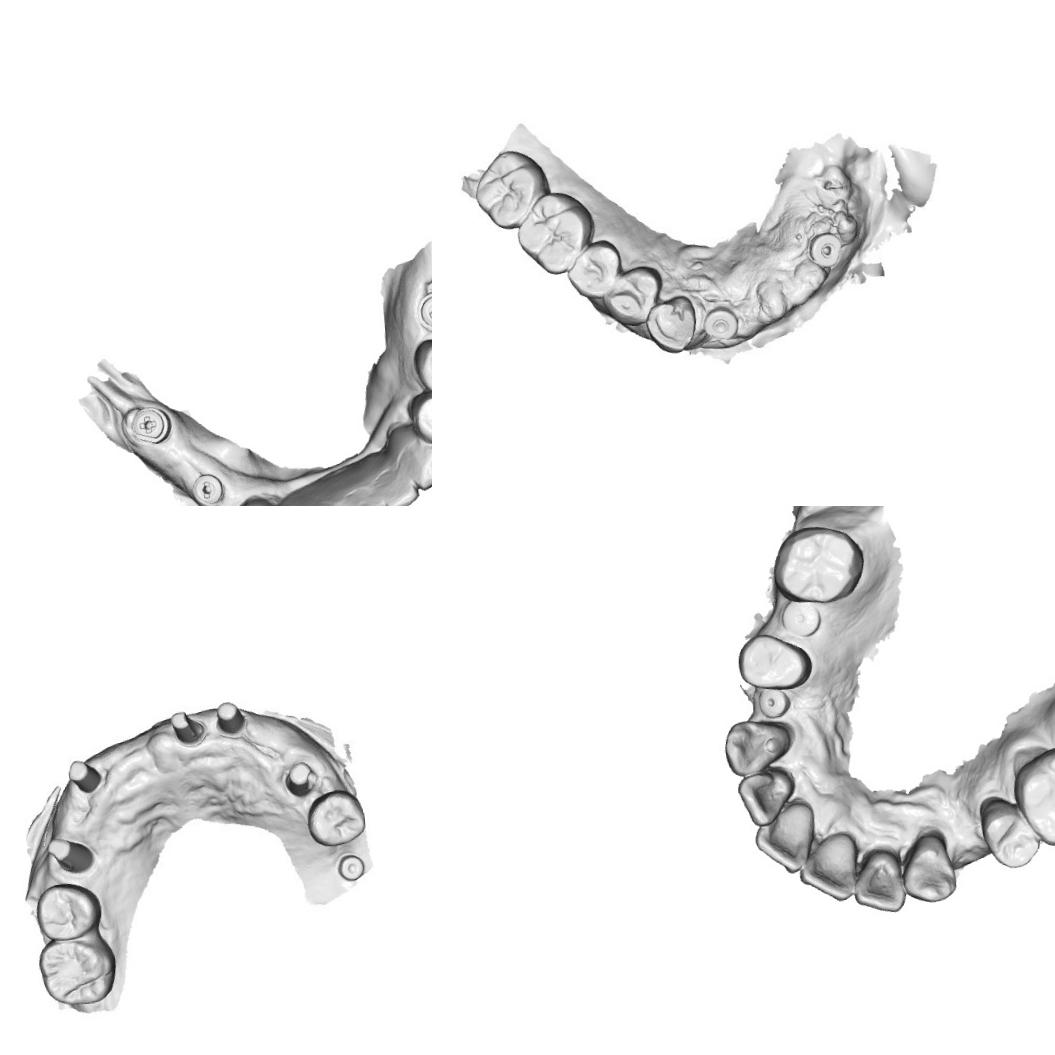abutment: (41, 833, 94, 876), (64, 752, 104, 796), (166, 702, 205, 746), (281, 759, 321, 798), (210, 698, 248, 736)
canine: (720, 716, 794, 778), (899, 831, 958, 905), (646, 296, 697, 355), (393, 430, 432, 492)
implant: (810, 229, 849, 280), (778, 596, 823, 639), (698, 301, 740, 339), (756, 686, 792, 720), (331, 852, 368, 885)
implant_minus: (187, 468, 228, 506), (414, 287, 432, 334)
implant_plus: (125, 402, 173, 448)
incisor: (750, 800, 819, 876), (794, 830, 862, 905), (850, 846, 907, 916), (734, 768, 798, 827), (369, 461, 421, 506), (339, 477, 390, 506), (310, 493, 352, 506)
molar: (769, 520, 867, 606), (468, 146, 551, 230), (35, 931, 122, 1010), (517, 196, 597, 275), (1009, 742, 1055, 849)
premolar: (734, 628, 814, 694), (977, 791, 1041, 871), (34, 880, 104, 944), (301, 784, 365, 847), (599, 265, 662, 328), (566, 236, 624, 296), (403, 388, 432, 449), (409, 333, 432, 403)
